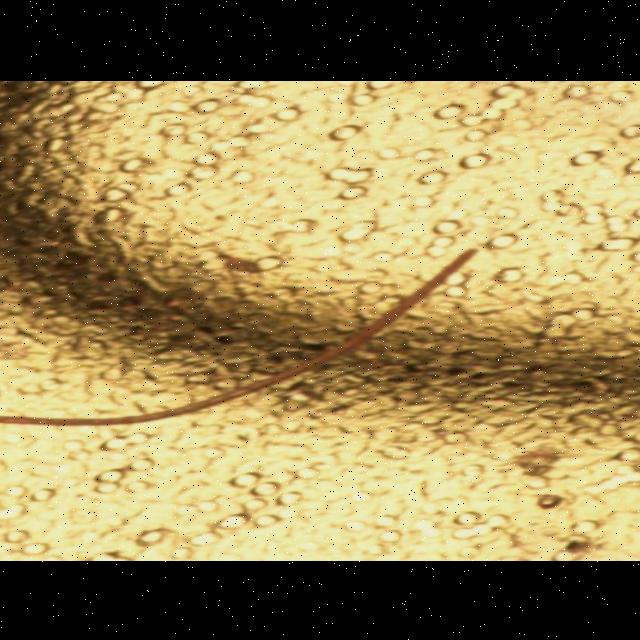Fibre: (1, 247, 483, 429)
